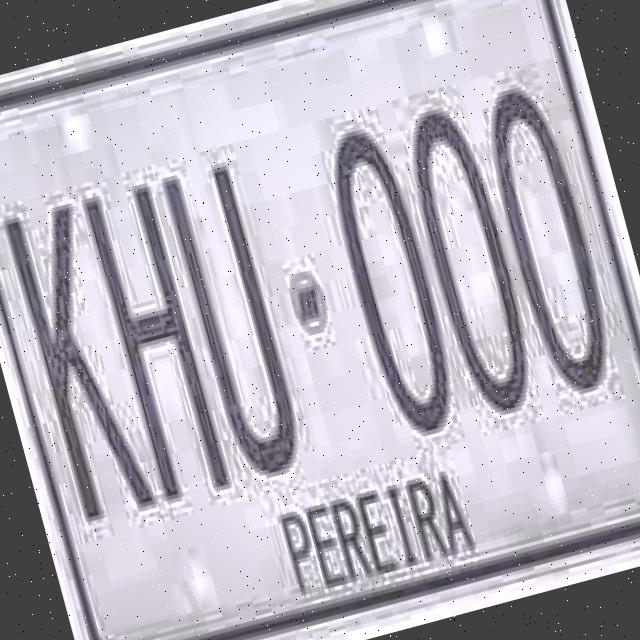0: (466, 66, 636, 412), (307, 105, 473, 448), (388, 89, 552, 422)
H: (68, 162, 239, 512)
K: (0, 183, 166, 539)
U: (149, 148, 321, 492)
